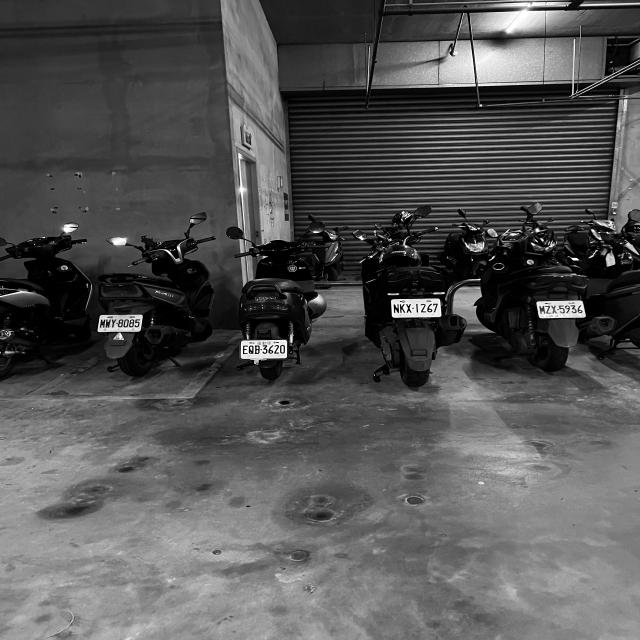-: (412, 306, 414, 310), (260, 348, 262, 351), (557, 308, 559, 310), (116, 322, 118, 324)
0: (280, 344, 286, 354), (123, 318, 129, 328)
1: (416, 303, 420, 313)
2: (421, 303, 426, 313), (274, 344, 279, 354)
3: (570, 304, 576, 314), (262, 344, 268, 354)
5: (559, 304, 565, 314), (135, 319, 140, 327)
6: (268, 344, 274, 354), (577, 305, 583, 314), (427, 302, 432, 312)
7: (433, 303, 438, 313)
8: (129, 320, 135, 328), (118, 319, 123, 327)
9: (565, 305, 570, 313)
B: (254, 344, 260, 354)
K: (400, 304, 406, 314)
M: (539, 306, 545, 314), (100, 319, 104, 328)
N: (394, 303, 399, 313)
Q: (248, 346, 254, 354)
R: (242, 346, 248, 354)
W: (106, 320, 110, 328)
X: (551, 305, 557, 314), (406, 304, 412, 312)
Y: (112, 319, 116, 328)
Z: (545, 306, 551, 314)
plate: (392, 298, 442, 316), (536, 302, 588, 317), (99, 314, 143, 330), (242, 342, 288, 357)
